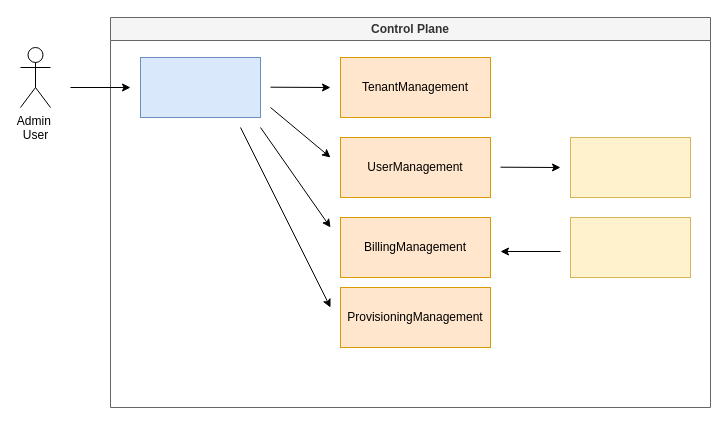
Some shapes in this 728 by 425 pixel diagram are drawn without their labels. The shapes that lost their labels are listed below. From the top down, each one's centre as x and y in pixels, then its label:
At (200,87): "Onboarding".
At (630,167): "IdentityManagement".
At (630,247): "MetricsManagement".
